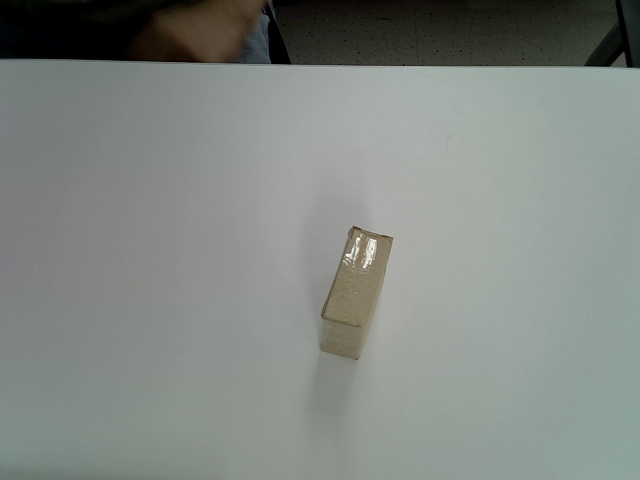normal: (318, 226, 394, 362)
